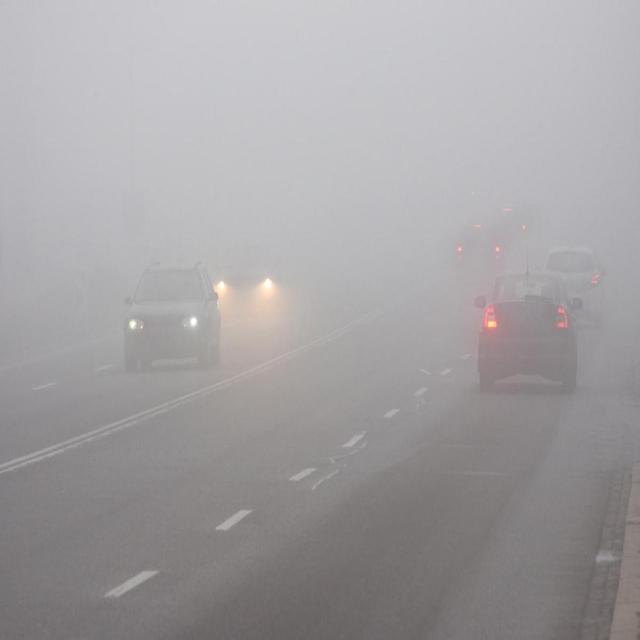Car: (473, 275, 582, 398), (128, 238, 213, 386), (212, 218, 282, 324), (542, 232, 605, 324), (450, 205, 506, 282)
